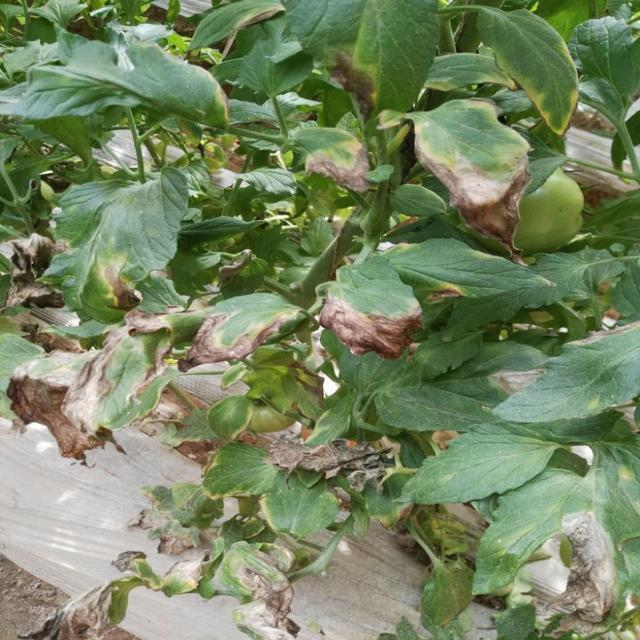Early_blight: (6, 303, 193, 465), (413, 133, 533, 265), (544, 506, 622, 639), (181, 307, 295, 373), (13, 576, 129, 640), (272, 435, 400, 493), (226, 541, 297, 640), (318, 293, 422, 360), (3, 230, 72, 313), (304, 135, 376, 197), (327, 44, 377, 122), (127, 505, 201, 555), (97, 250, 143, 311), (370, 501, 416, 529), (425, 278, 465, 305), (109, 546, 146, 569)
